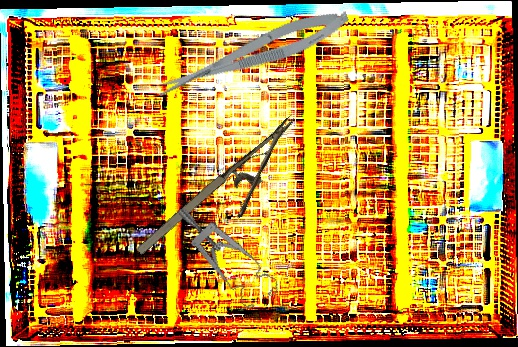Micro Scissor: (151, 2, 354, 103)
Needle Holder: (132, 114, 322, 281)
Speculum: (177, 186, 283, 321)
